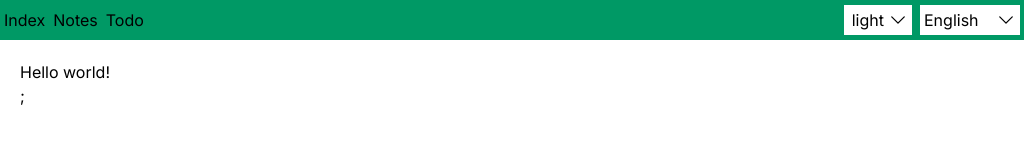
App › Header › should have language selector with items
Click the text "English".
click(952, 20)  # box [924,5,979,35]
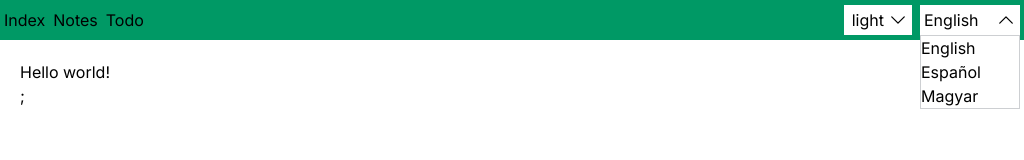
Check: the text "Español" is shown, box [921,60,1019,84]
Check: the text "Magyar" is shown, box [921,84,1019,108]
